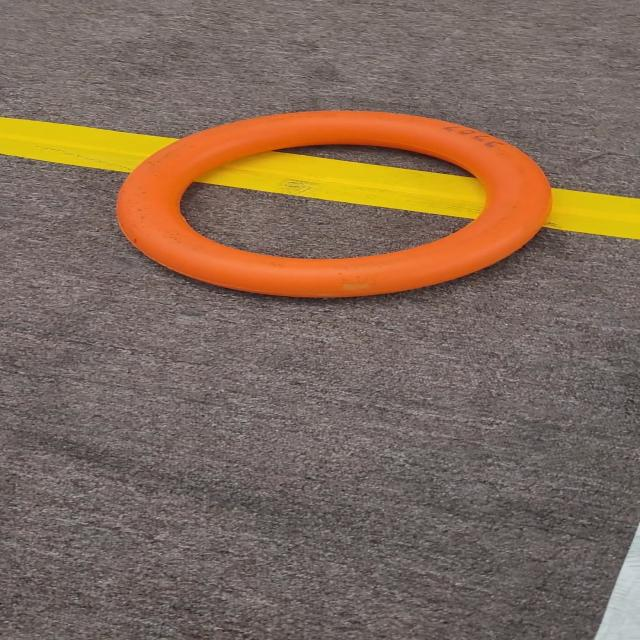note: (114, 105, 567, 308)
